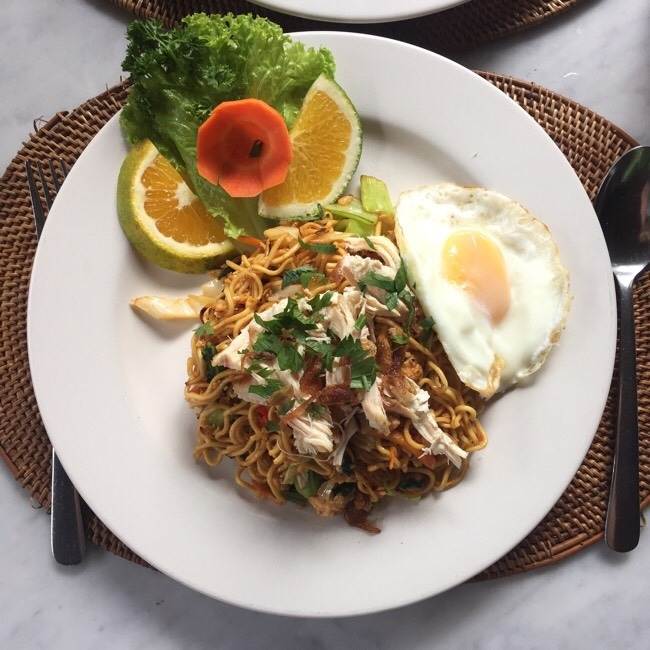chopped lettuce: (133, 28, 308, 131)
fried egg: (416, 196, 554, 362)
plain spaghetti: (201, 241, 425, 512)
